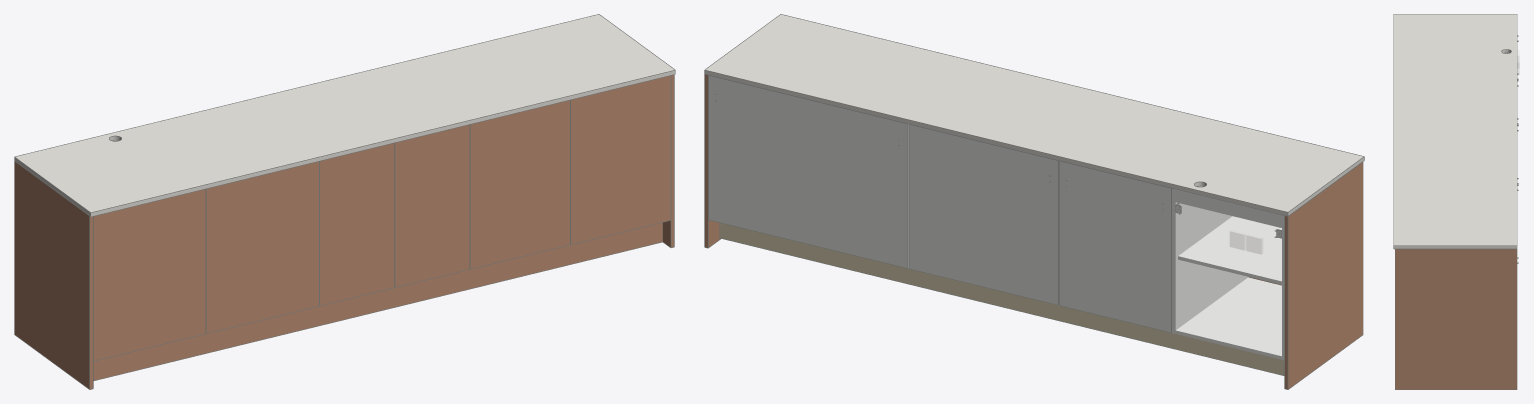
File: modell.glb
The picture shows the model from 3 angles, left to right: view 1: azimuth 30°, elevation 25°; view 2: azimuth 150°, elevation 25°; view 3: azimuth 270°, elevation 25°; orthographic projection. The views are drawn at different scales.
Bounding box in the file's own units: 3103 × 903 × 717.
